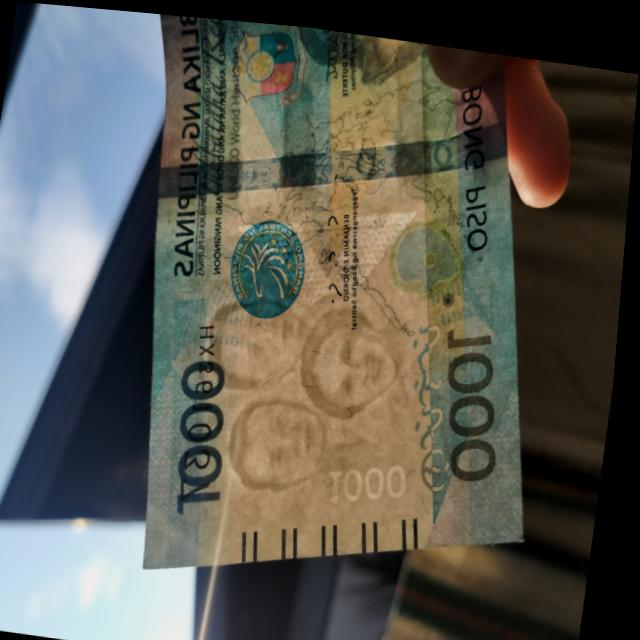security_thread: (159, 107, 510, 199)
see_through_mark: (396, 309, 482, 489)
value_watermark: (324, 443, 420, 502)
watermark: (190, 276, 419, 495)
